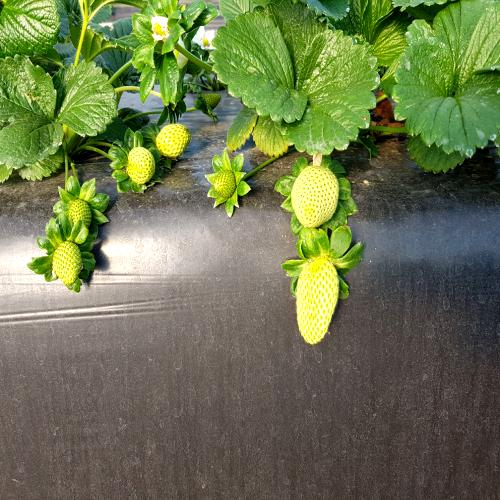unripe: (289, 245, 345, 352), (282, 152, 343, 234)
